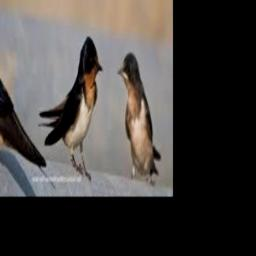Swallow: (39, 37, 103, 180), (0, 10, 47, 167), (118, 54, 161, 178)
